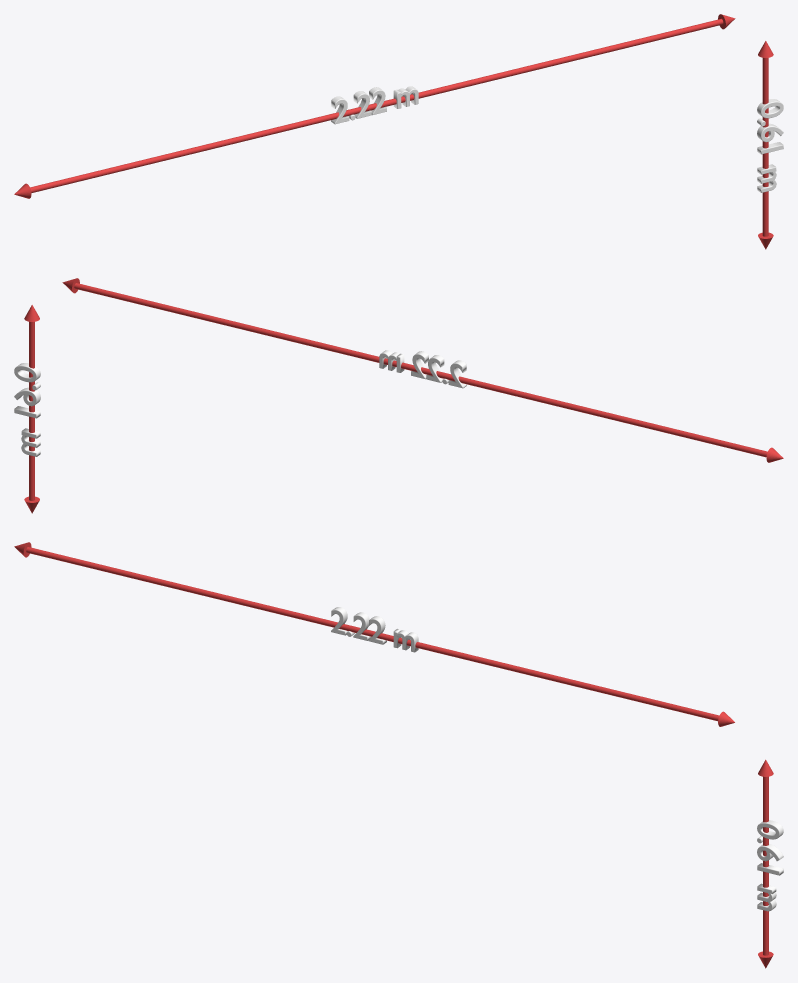
File: dimentionFDDM6.gltf
3 renders of one model, top to bottom at view 1: azimuth 30°, elevation 25°; view 2: azimuth 150°, elevation 25°; view 3: azimuth 330°, elevation 25°, orthographic.
Visible parts, largest first — view 1: Text.008; view 2: Text.008; view 3: Text.008.
Boxes of the visible parts, box(x1,y1,x2,y2) form: Text.008: box(14, 14, 783, 249); Text.008: box(14, 278, 783, 513); Text.008: box(14, 542, 783, 968).
Bounding box in the file's own units: 24.8 × 7.9 × 0.4388.
